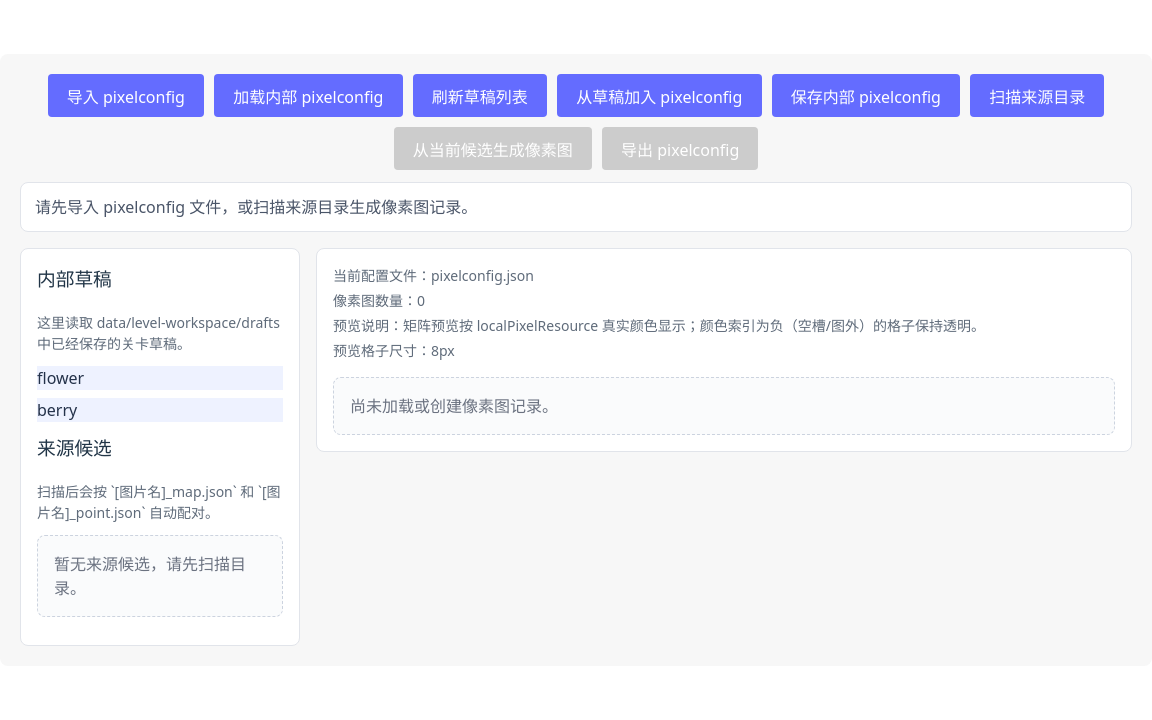
PixelConfigPage internal workspace management › loads internal pixelconfig and lists internal drafts
Click the button "加载内部 pixelconfig". click: (308, 96)
box: [214, 74, 403, 117]
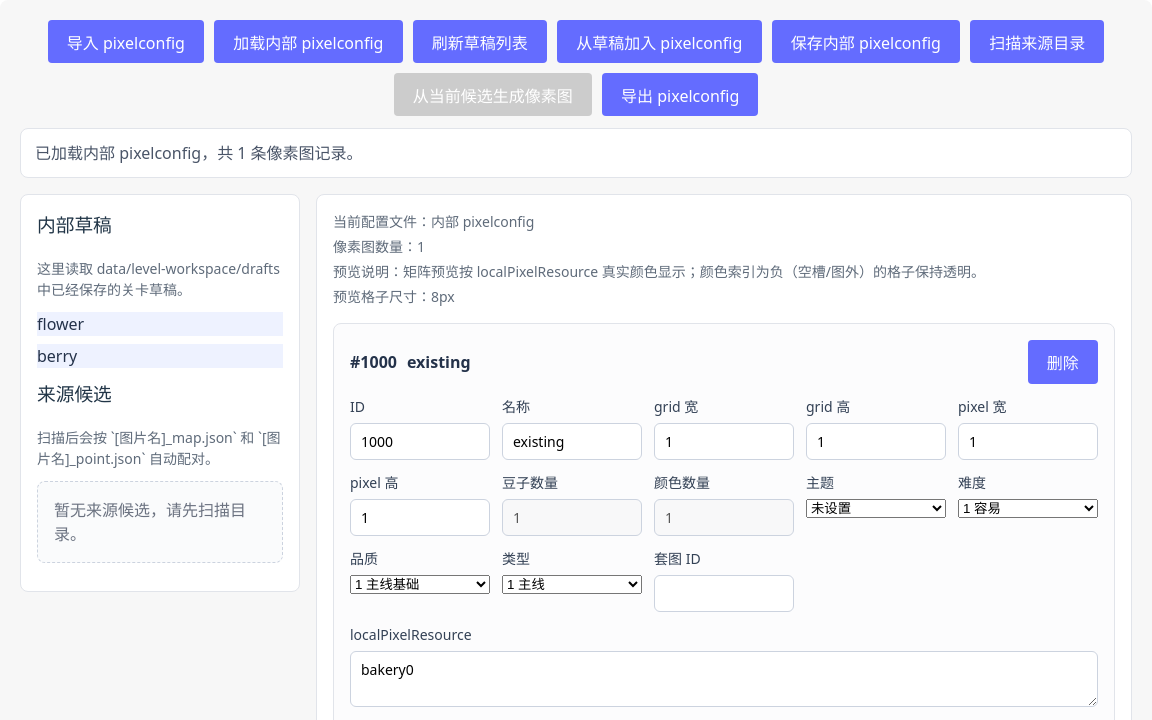
Now the text "existing" is shown, box [407, 350, 471, 374]
